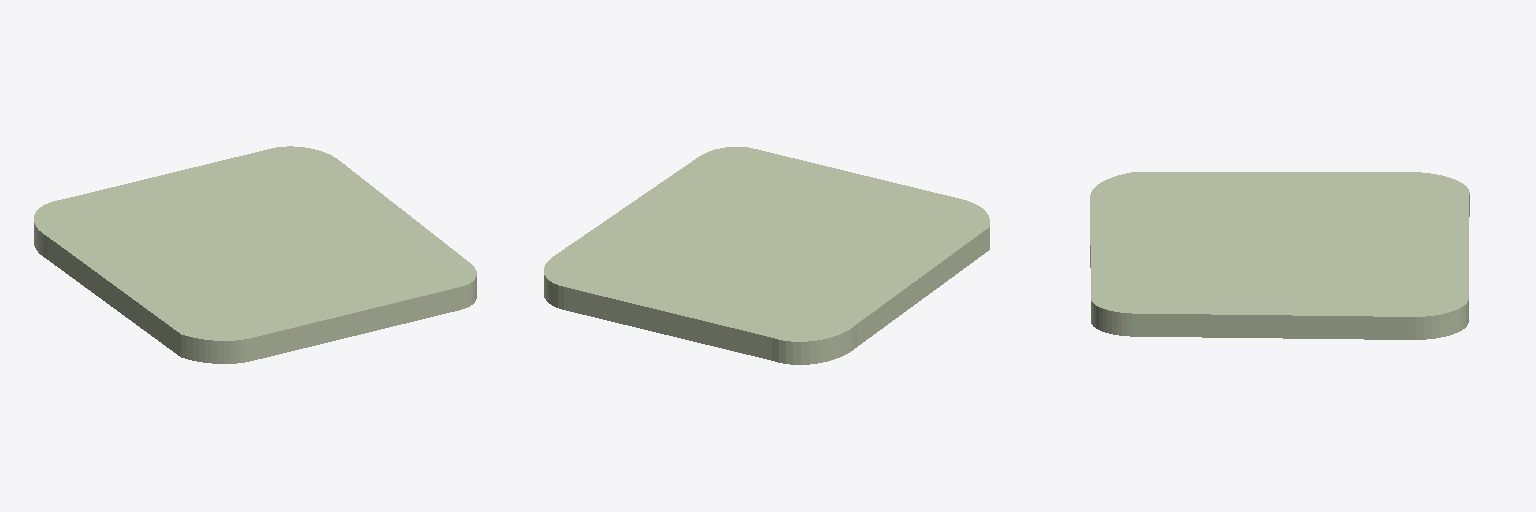
Rendered from original-56.obj.
3 views of the same model, side by side, from view 1: azimuth 30°, elevation 25°; view 2: azimuth 150°, elevation 25°; view 3: azimuth 270°, elevation 25° (orthographic).
Parts seen in each view (by area): view 1: tecla1_54/tecla1/mesh6/mesh6-geometry#mesh6-geometry; view 2: tecla1_54/tecla1/mesh6/mesh6-geometry#mesh6-geometry; view 3: tecla1_54/tecla1/mesh6/mesh6-geometry#mesh6-geometry.
Part boxes in pixels (x1,y1,x2,y2): tecla1_54/tecla1/mesh6/mesh6-geometry#mesh6-geometry: (34,146,476,363); tecla1_54/tecla1/mesh6/mesh6-geometry#mesh6-geometry: (544,147,989,364); tecla1_54/tecla1/mesh6/mesh6-geometry#mesh6-geometry: (1090,172,1469,339).
Size of the model in its own units: 0.0535 by 0.004 by 0.0591.